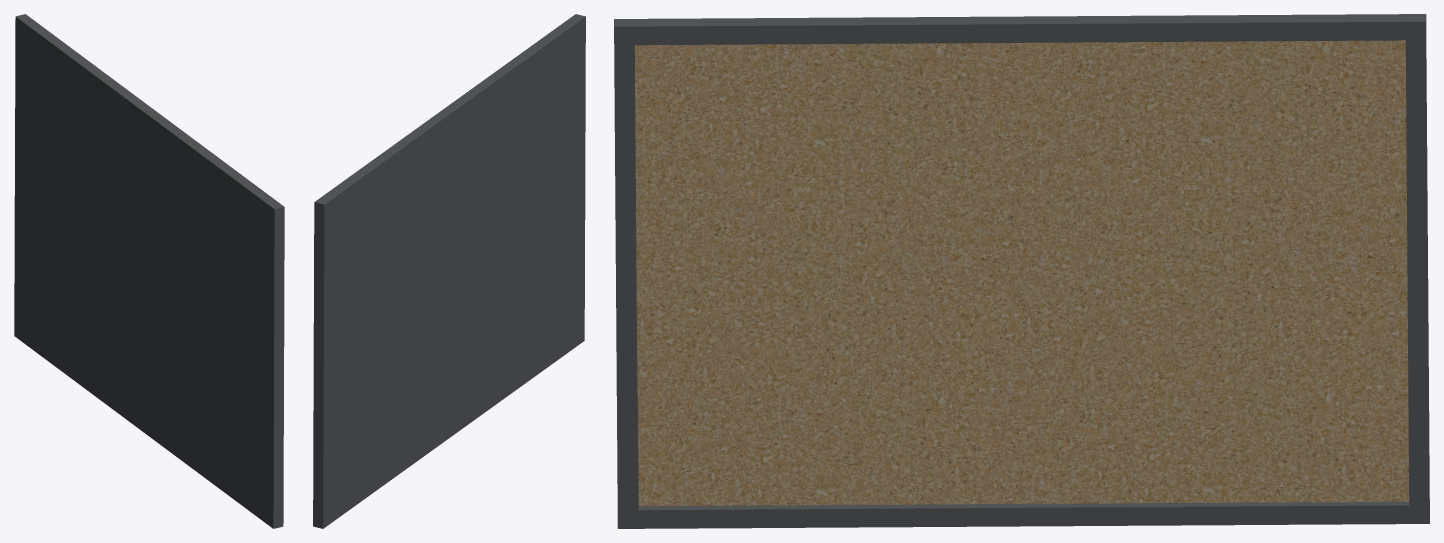
File: office_pinboard_cube.fbx
3 views of the same model, side by side, from view 1: azimuth 30°, elevation 25°; view 2: azimuth 150°, elevation 25°; view 3: azimuth 270°, elevation 25° (orthographic). The views are drawn at different scales.
Visible parts, largest first — view 1: office_pinboard_cube; view 2: office_pinboard_cube; view 3: office_pinboard_cube.
Part boxes in pixels (x1,y1,x2,y2): office_pinboard_cube: (14,14,284,528); office_pinboard_cube: (313,14,585,528); office_pinboard_cube: (614,14,1429,528).
Size of the model in its own units: 0.094 by 2.89 by 4.22.
